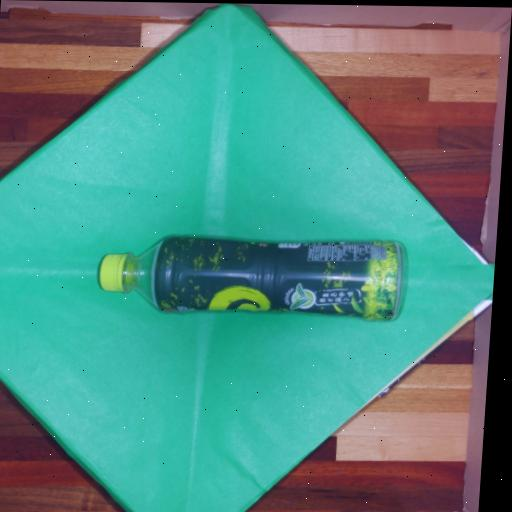bottle: (85, 221, 423, 337)
